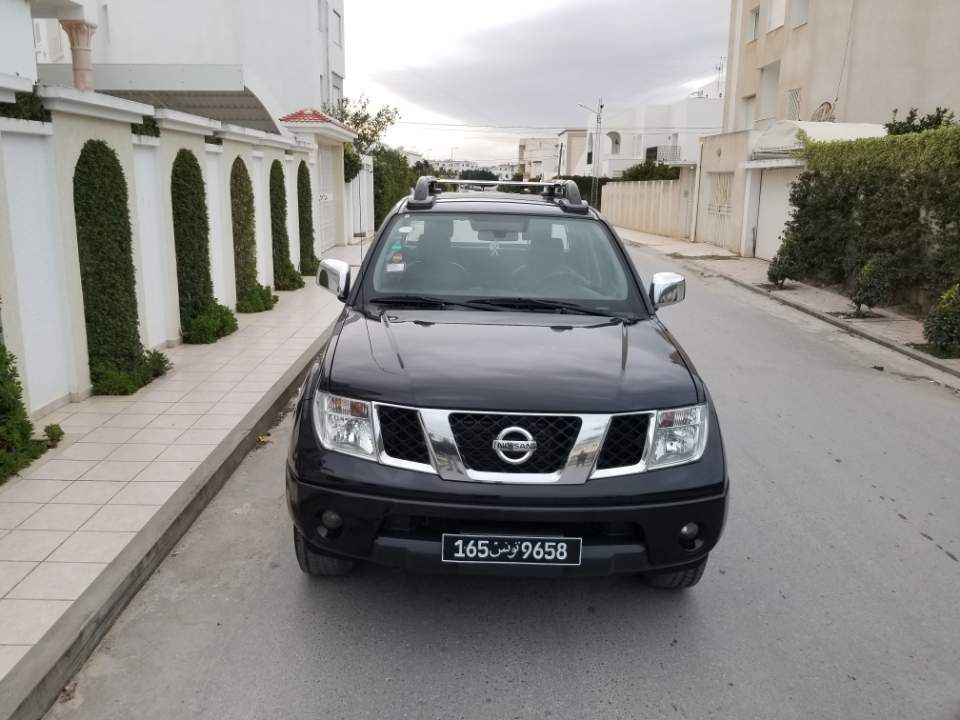LP: (439, 533, 583, 568)
